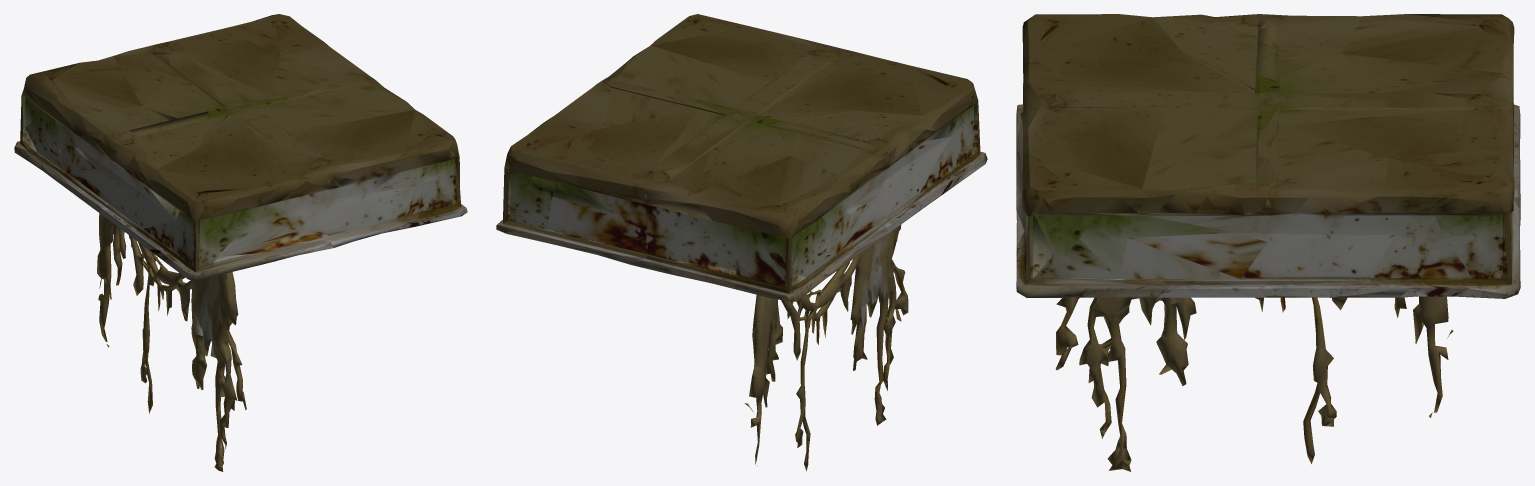
The model's file is foco.fbx.
3 views of the same model, side by side, from view 1: azimuth 30°, elevation 25°; view 2: azimuth 150°, elevation 25°; view 3: azimuth 270°, elevation 25° (orthographic). The views are drawn at different scales.
Visible parts, largest first — view 1: tripo_node_c3a9a07d; view 2: tripo_node_c3a9a07d; view 3: tripo_node_c3a9a07d.
Part boxes in pixels (<box>): tripo_node_c3a9a07d: <box>14,14,467,471</box>; tripo_node_c3a9a07d: <box>496,14,987,471</box>; tripo_node_c3a9a07d: <box>1016,14,1520,471</box>.
Size of the model in its own units: 88 by 92.94 by 99.92.
